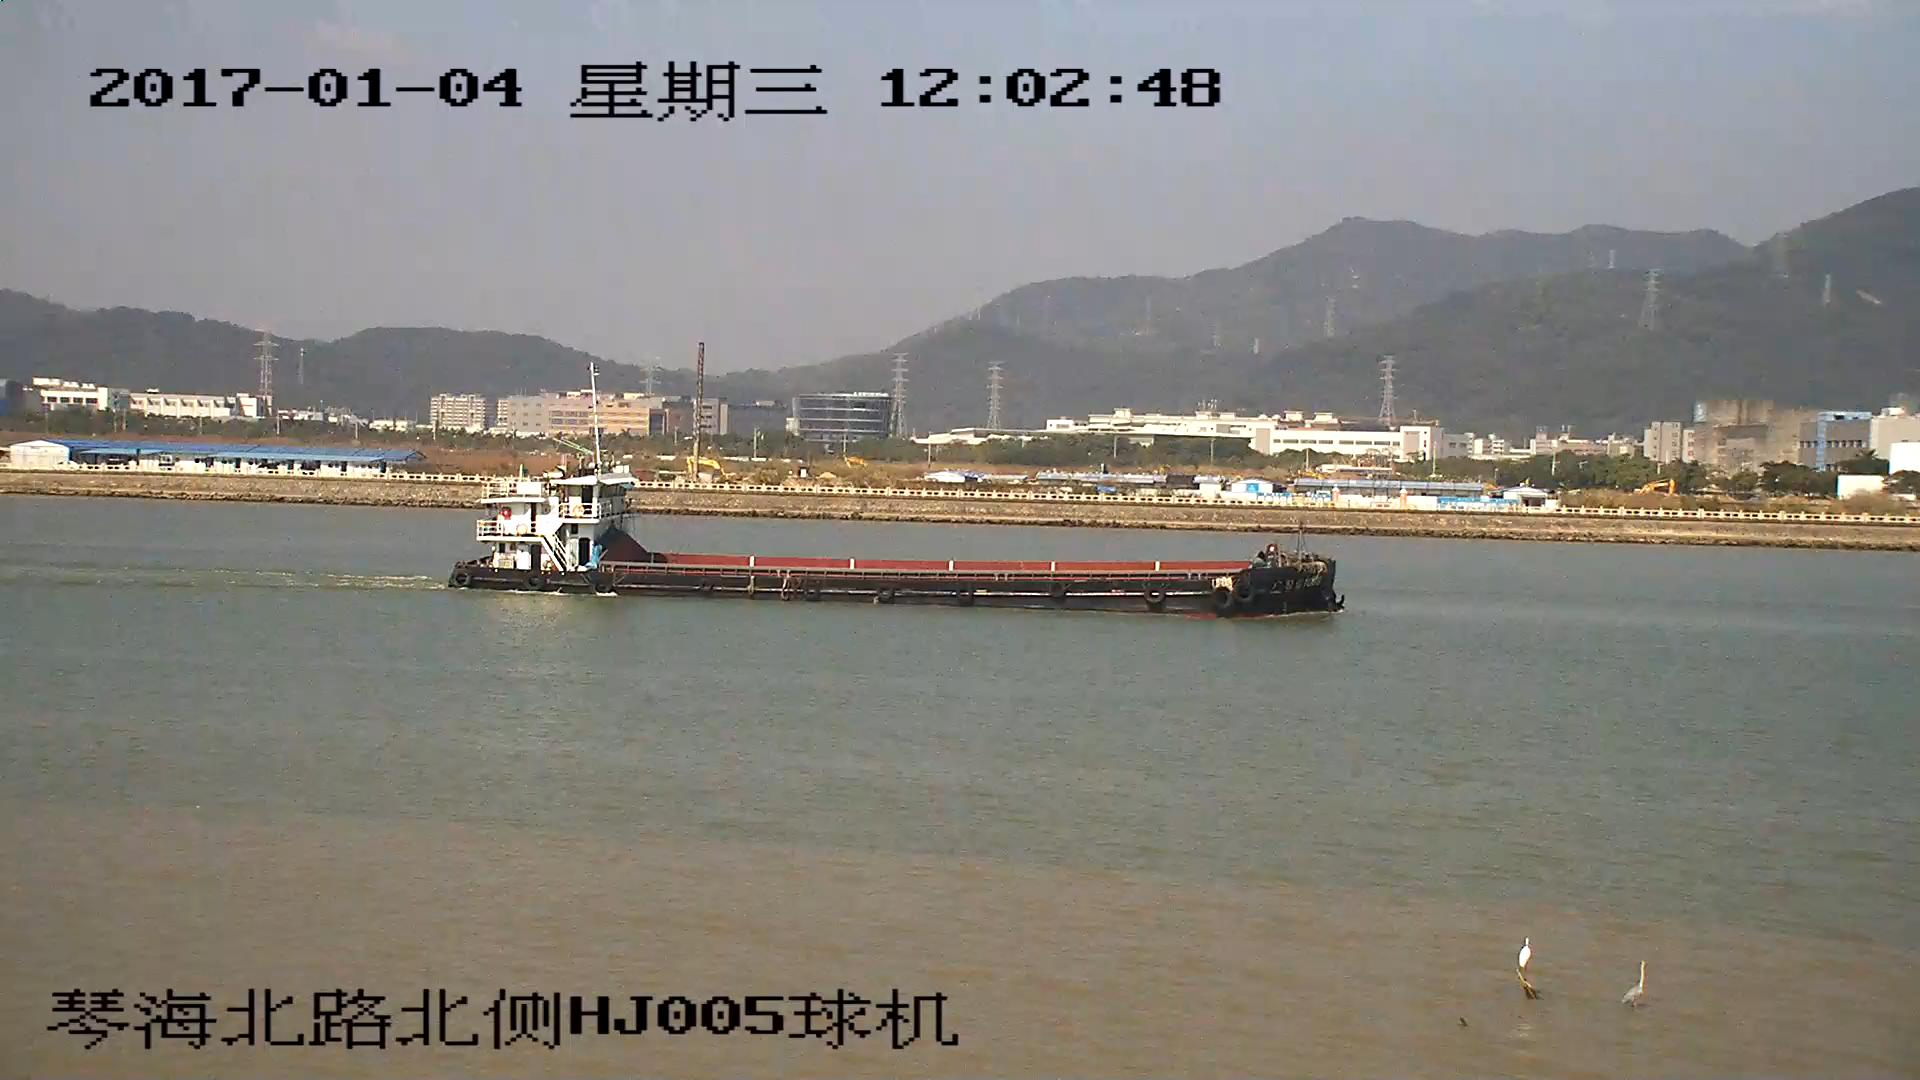general cargo ship: (445, 474, 1344, 619)
